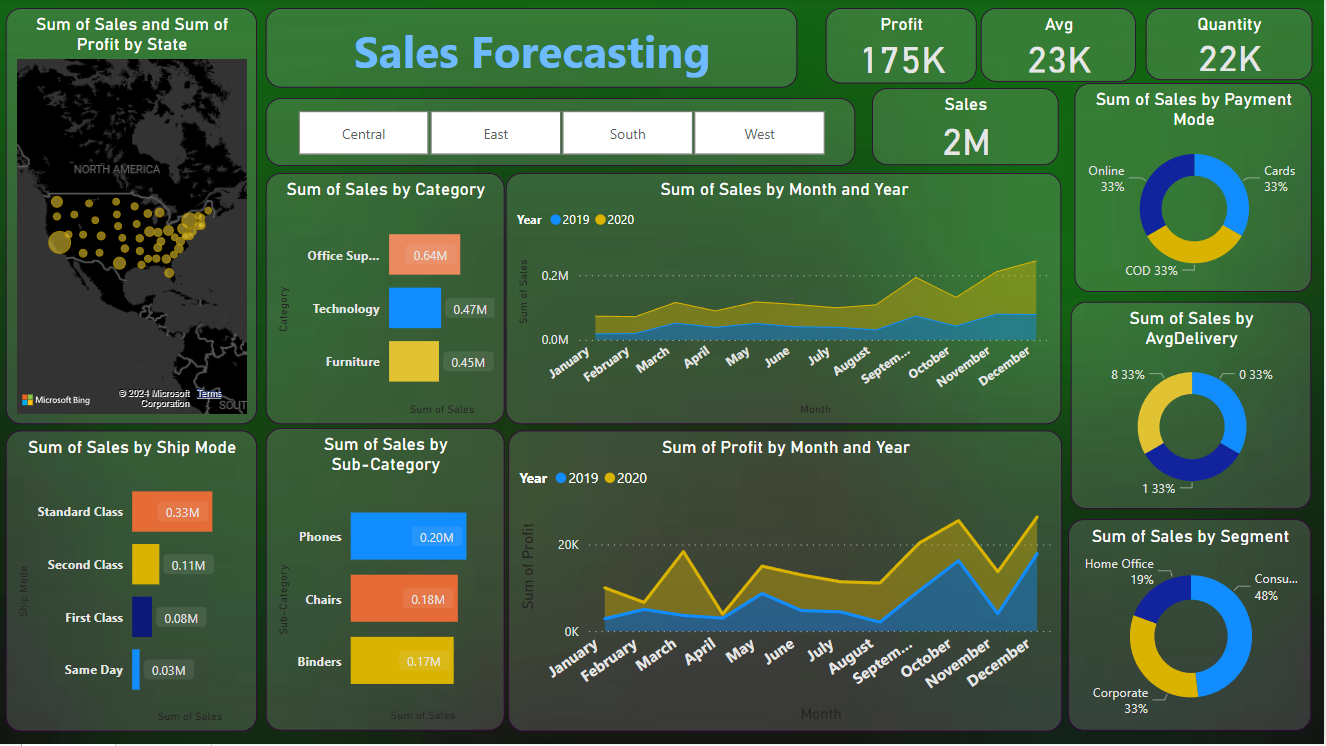

Layout of this report page (visuals, bound fields, positions):
{"tool":"powerbi","page":{"name":"Page 1","canvas":[1280,720],"ordinal":0},"visuals":[{"type":"stackedAreaChart","fields":{"Series":["Sheet1 (2).Order Date.Variation.Date Hierarchy.Year"],"Category":["Sheet1 (2).Order Date.Variation.Date Hierarchy.Month","Sheet1 (2).Order Date.Variation.Date Hierarchy.Day"],"Y":["Sum(Sheet1 (2).Profit)"]},"box":[493.3,417.3,534.3,290.7],"z":0},{"type":"stackedAreaChart","fields":{"Y":["Sum(Sheet1 (2).Sales)"],"Series":["Sheet1 (2).Order Date.Variation.Date Hierarchy.Year"],"Category":["Sheet1 (2).Order Date.Variation.Date Hierarchy.Month","Sheet1 (2).Order Date.Variation.Date Hierarchy.Day"]},"box":[490.8,168.6,536.1,242.7],"z":1000},{"type":"donutChart","fields":{"Category":["Sheet1.Payment Mode"],"Y":["Sum(Sheet1 (2).Sales)"]},"box":[1039.3,82.3,229,201.5],"z":2000},{"type":"donutChart","fields":{"Category":["Sheet1 (2).Segment"],"Y":["Sum(Sheet1 (2).Sales)"]},"box":[1033.8,503.2,234.4,204.3],"z":3000},{"type":"card","title":"Avg","fields":{"Values":["Sum(Sheet1.AvgDelivery)"]},"box":[948.8,9.6,149.4,71.3],"z":4000},{"type":"card","title":"Profit","fields":{"Values":["Sum(Sheet1 (2).Profit)"]},"box":[799.3,9.6,145.3,72.7],"z":5000},{"type":"card","title":"Quantity","fields":{"Values":["Sum(Sheet1 (2).Quantity)"]},"box":[1107.4,9.6,160.5,70],"z":6000},{"type":"card","title":"Sales","fields":{"Values":["Sum(Sheet1 (2).Sales)"]},"box":[844.6,96,179.6,65.8],"z":7000},{"type":"clusteredBarChart","fields":{"Y":["Sum(Sheet1 (2).Sales)"],"Category":["Sheet1 (2).Ship Mode"]},"box":[8.4,417.3,242.4,290.7],"z":8000},{"type":"clusteredBarChart","fields":{"Category":["Sheet1 (2).Category"],"Y":["Sum(Sheet1 (2).Sales)"]},"box":[259.1,168.6,230.3,242.7],"z":9000},{"type":"clusteredBarChart","fields":{"Y":["Sum(Sheet1 (2).Sales)"],"Category":["Sheet1 (2).Sub-Category"]},"box":[259.1,415.4,230.3,292],"z":10000},{"type":"map","fields":{"Category":["Sheet1 (2).State"],"Size":["Sum(Sheet1 (2).Sales)"]},"box":[8.4,9.6,242.4,401.6],"z":11000},{"type":"slicer","fields":{"Values":["Sheet1 (2).Region"]},"box":[259.1,96,569,65.8],"z":12000},{"type":"textbox","box":[259.1,9.6,512.8,76.8],"z":13000},{"type":"donutChart","fields":{"Category":["Sheet1.AvgDelivery"],"Y":["Sum(Sheet1 (2).Sales)"]},"box":[1036.5,293.4,231.7,200.2],"z":14000}]}

Visuals, with their boxes in screenshot pixels (x1, y1, x2, y2), scaled from the page's 1280x720 canvas onto the 1326x746 screenshot:
stackedAreaChart - Sheet1 (2).Order Date.Variation.Date Hierarchy.Year x Sheet1 (2).Order Date.Variation.Date Hierarchy.Month: pyautogui.locateOnScreen(511, 432, 1065, 734)
stackedAreaChart - Sum(Sheet1 (2).Sales) x Sheet1 (2).Order Date.Variation.Date Hierarchy.Year: pyautogui.locateOnScreen(508, 175, 1064, 426)
donutChart - Sheet1.Payment Mode x Sum(Sheet1 (2).Sales): pyautogui.locateOnScreen(1077, 85, 1314, 294)
donutChart - Sheet1 (2).Segment x Sum(Sheet1 (2).Sales): pyautogui.locateOnScreen(1071, 521, 1314, 733)
"Avg" card: pyautogui.locateOnScreen(983, 10, 1138, 84)
"Profit" card: pyautogui.locateOnScreen(828, 10, 979, 85)
"Quantity" card: pyautogui.locateOnScreen(1147, 10, 1313, 82)
"Sales" card: pyautogui.locateOnScreen(875, 99, 1061, 168)
clusteredBarChart - Sum(Sheet1 (2).Sales) x Sheet1 (2).Ship Mode: pyautogui.locateOnScreen(9, 432, 260, 734)
clusteredBarChart - Sheet1 (2).Category x Sum(Sheet1 (2).Sales): pyautogui.locateOnScreen(268, 175, 507, 426)
clusteredBarChart - Sum(Sheet1 (2).Sales) x Sheet1 (2).Sub-Category: pyautogui.locateOnScreen(268, 430, 507, 733)
map - Sheet1 (2).State x Sum(Sheet1 (2).Sales): pyautogui.locateOnScreen(9, 10, 260, 426)
slicer - Sheet1 (2).Region: pyautogui.locateOnScreen(268, 99, 858, 168)
textbox: pyautogui.locateOnScreen(268, 10, 800, 90)
donutChart - Sheet1.AvgDelivery x Sum(Sheet1 (2).Sales): pyautogui.locateOnScreen(1074, 304, 1314, 511)
